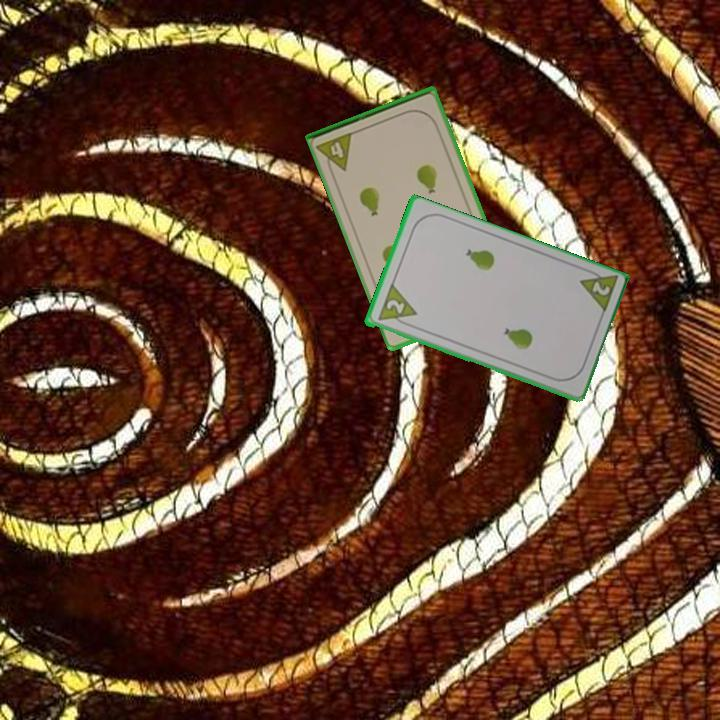2p: (575, 265, 620, 317), (374, 282, 419, 331)
4p: (314, 128, 357, 178)
